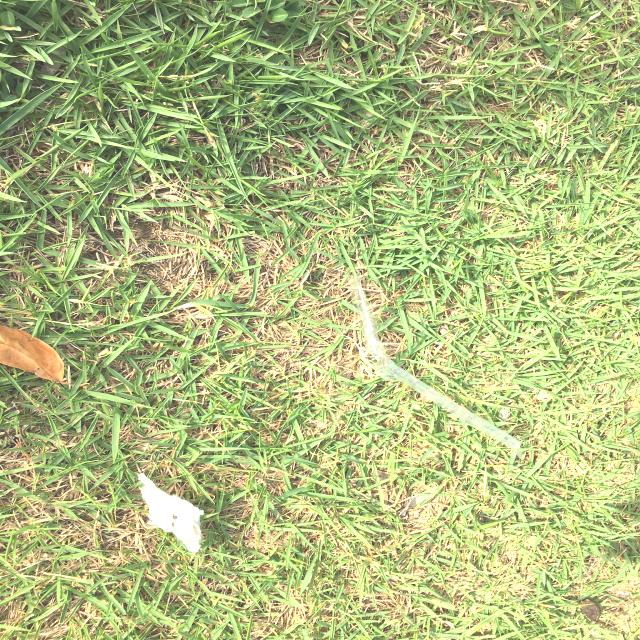Other plastic bottle: (137, 472, 204, 553)
Plastic film: (347, 273, 522, 461)
